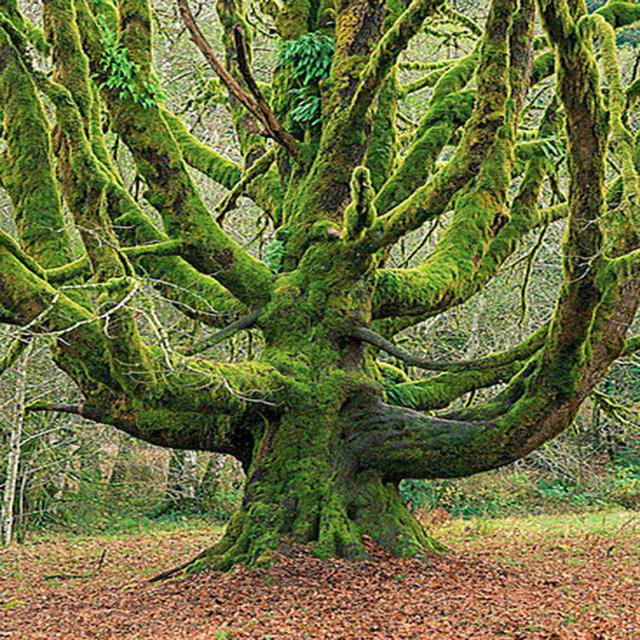Acer macrophyllum: (0, 0, 638, 561)
